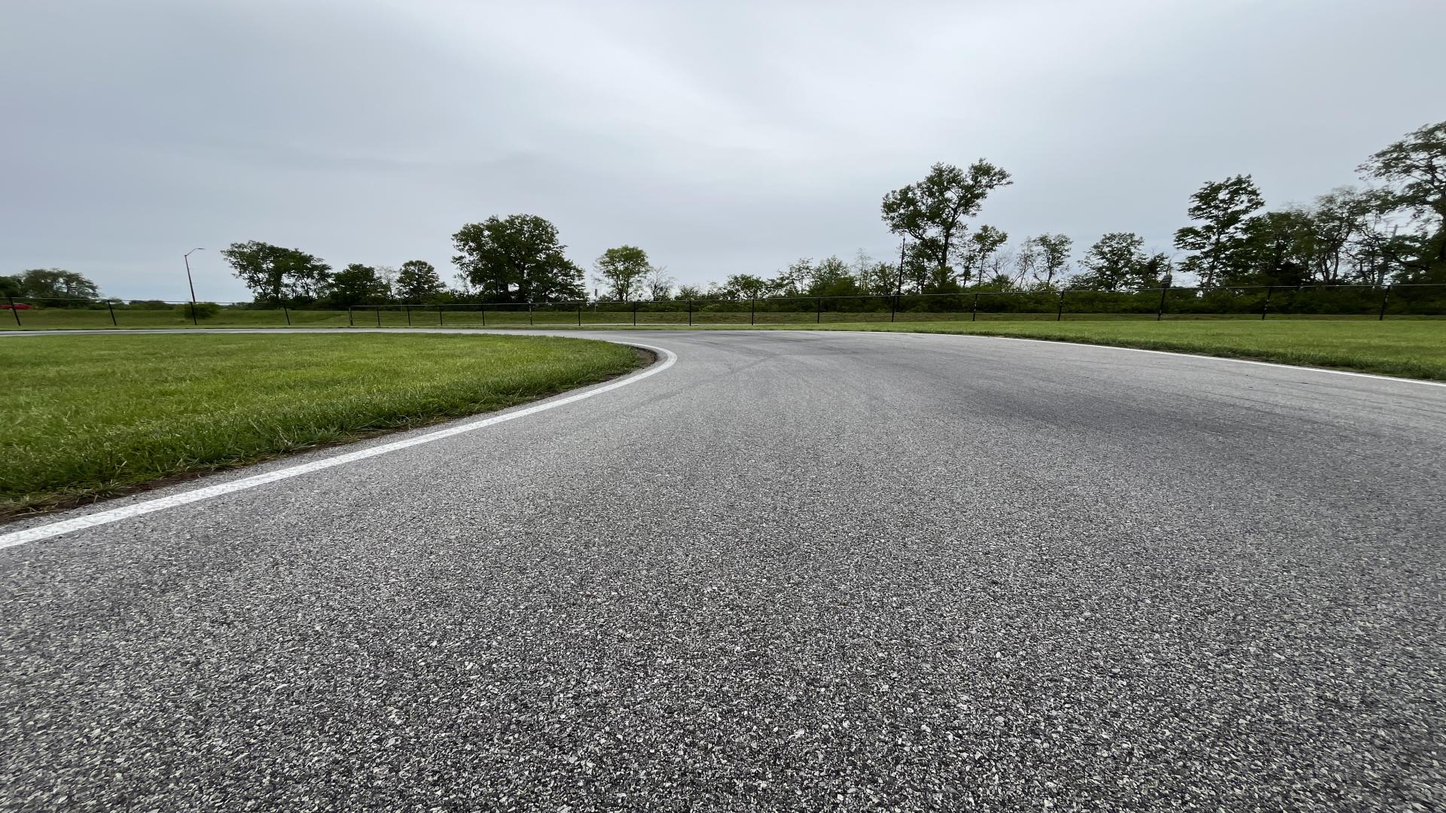white-line: (0, 343, 678, 548), (792, 331, 1445, 386)
